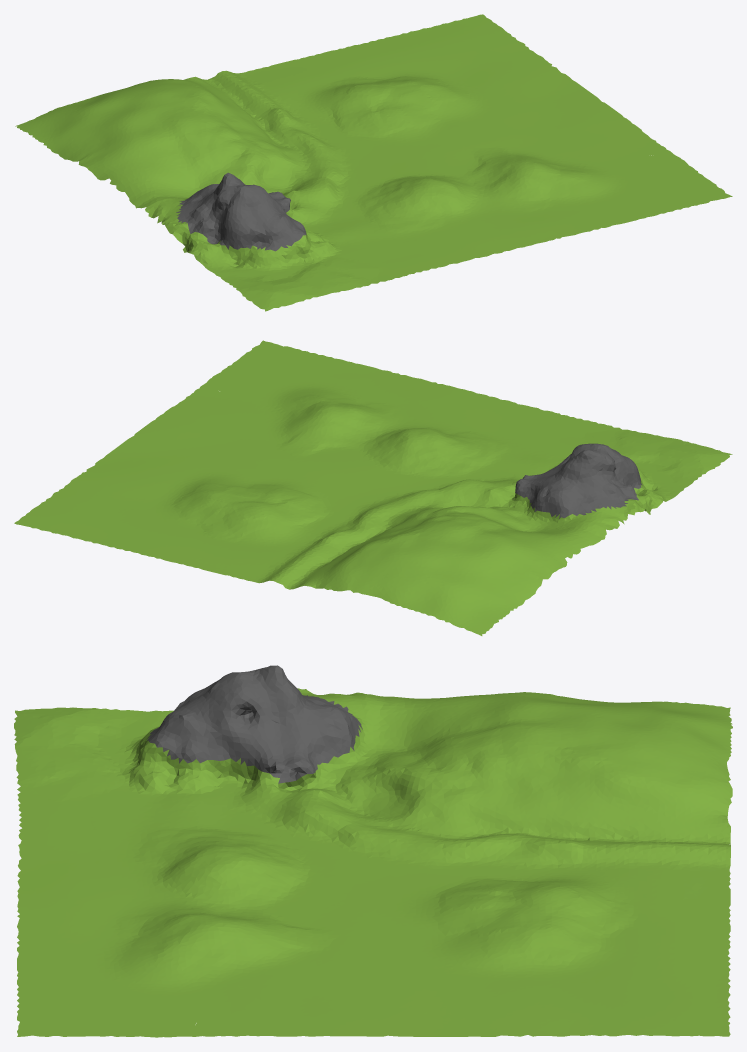
Rendered from terrain.fbx.
The picture shows the model from 3 angles, top to bottom: view 1: azimuth 30°, elevation 25°; view 2: azimuth 150°, elevation 25°; view 3: azimuth 270°, elevation 25°; orthographic projection. The views are drawn at different scales.
Visible parts, largest first — view 1: Plane.001; view 2: Plane.001; view 3: Plane.001.
Boxes of the visible parts, <box> form: Plane.001: <box>15,14,732,311</box>; Plane.001: <box>14,340,732,635</box>; Plane.001: <box>14,665,732,1037</box>.
Size of the model in its own units: 23421 by 2858 by 21626.
